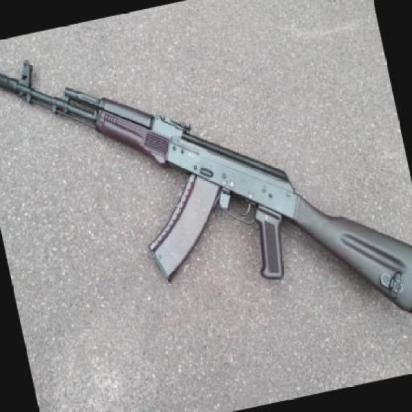Gun: (0, 0, 412, 397)
